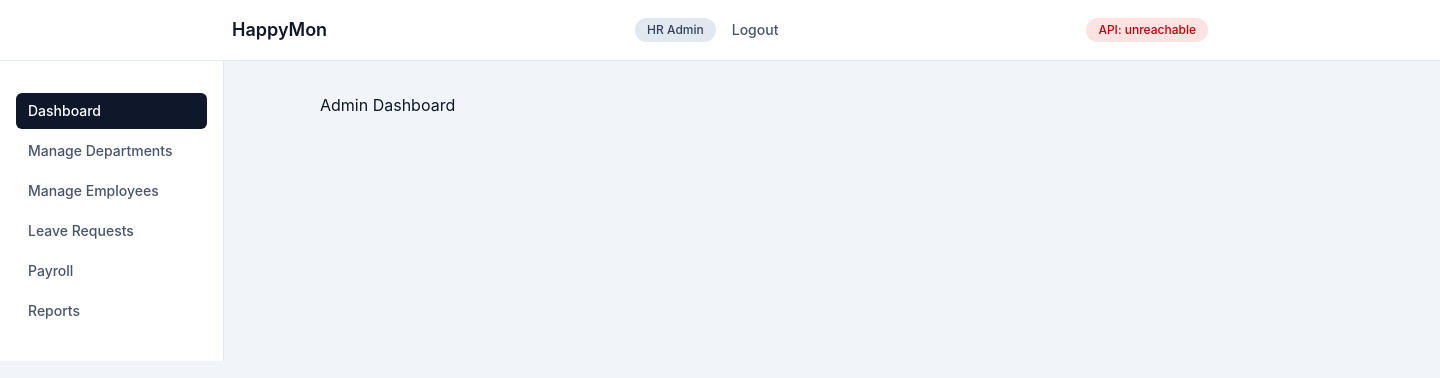
it: AppLayout › HR_ADMIN › navigates to /admin/reports via the sidebar Reports link
The width and height of the screenshot is (1440, 378).
Click the link "Reports". click: click(54, 310)
box: [28,302,80,319]
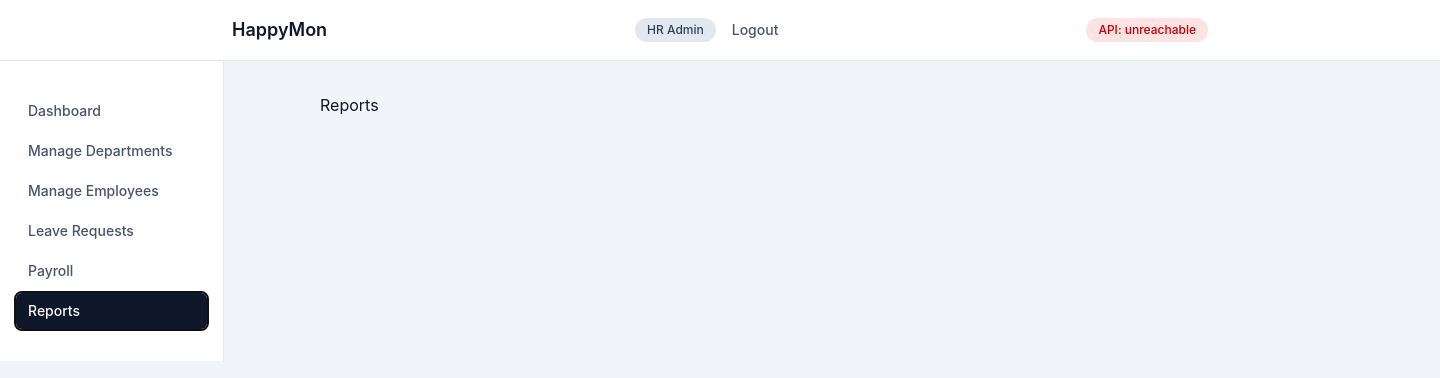
Now the heading "Reports" is shown, box [320,95,379,115]
